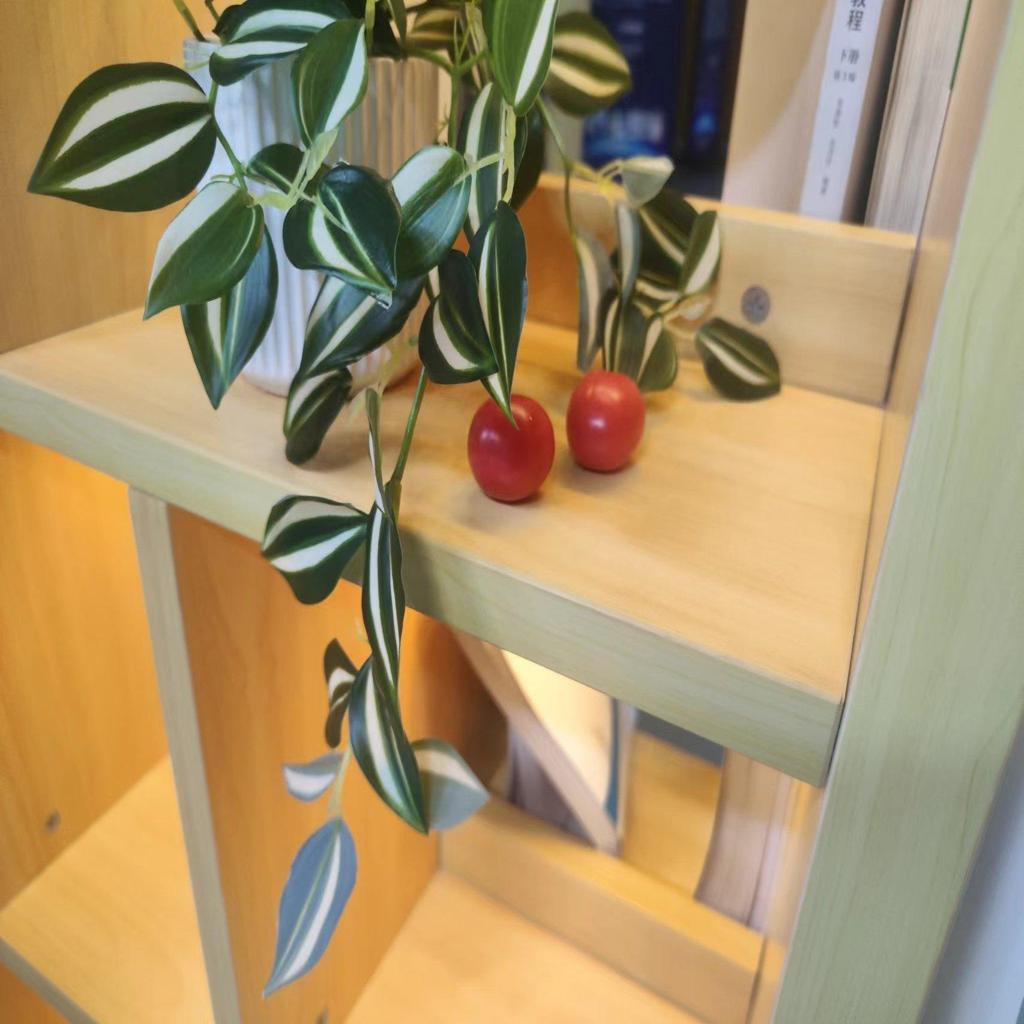tomato: (458, 392, 558, 505), (565, 373, 642, 474)
